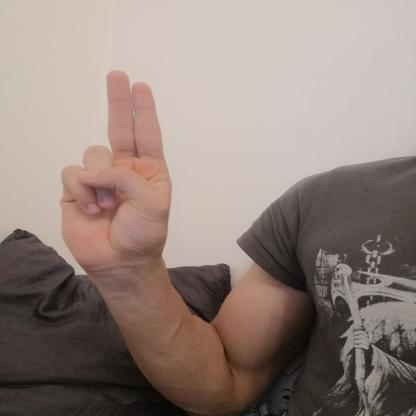TA: (46, 56, 182, 282)
